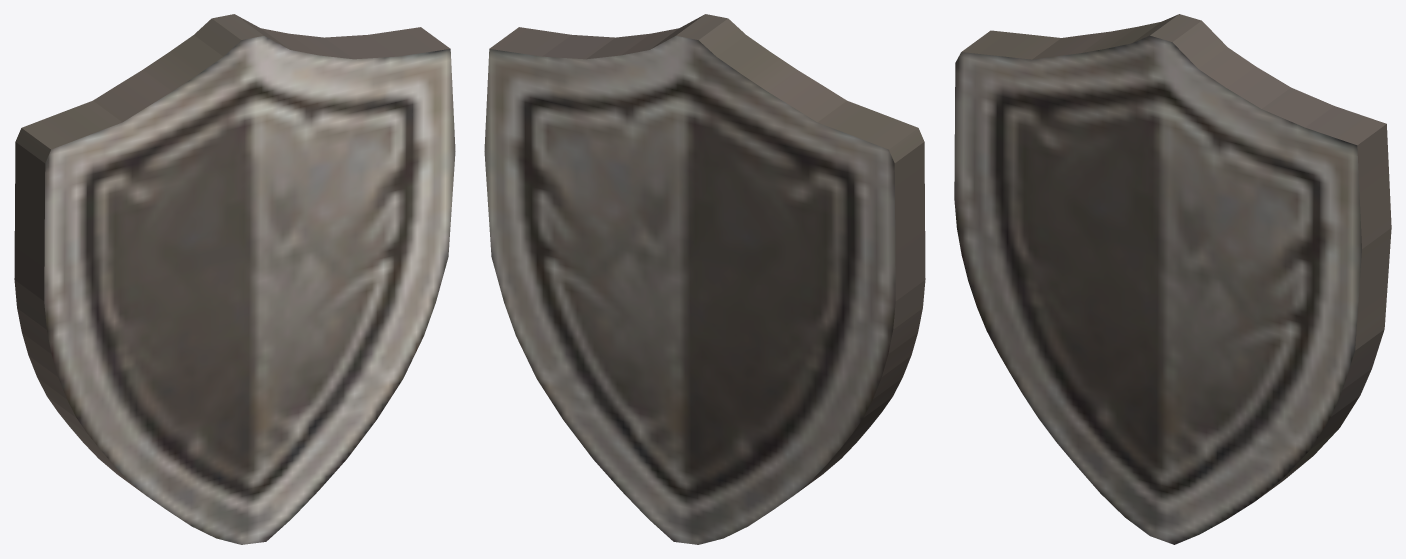
The model's file is Armor.glb.
3 renders of one model, left to right at view 1: azimuth 30°, elevation 25°; view 2: azimuth 150°, elevation 25°; view 3: azimuth 330°, elevation 25°, orthographic.
Visible parts, largest first — view 1: Circle.002; view 2: Circle.002; view 3: Circle.002.
Part boxes in pixels (x1=…): Circle.002: x1=14, y1=14, x2=455, y2=544; Circle.002: x1=484, y1=14, x2=925, y2=544; Circle.002: x1=954, y1=14, x2=1391, y2=544.
Bounding box in the file's own units: 0.9054 × 1.07 × 0.1135.
1 material, 1 textured.
